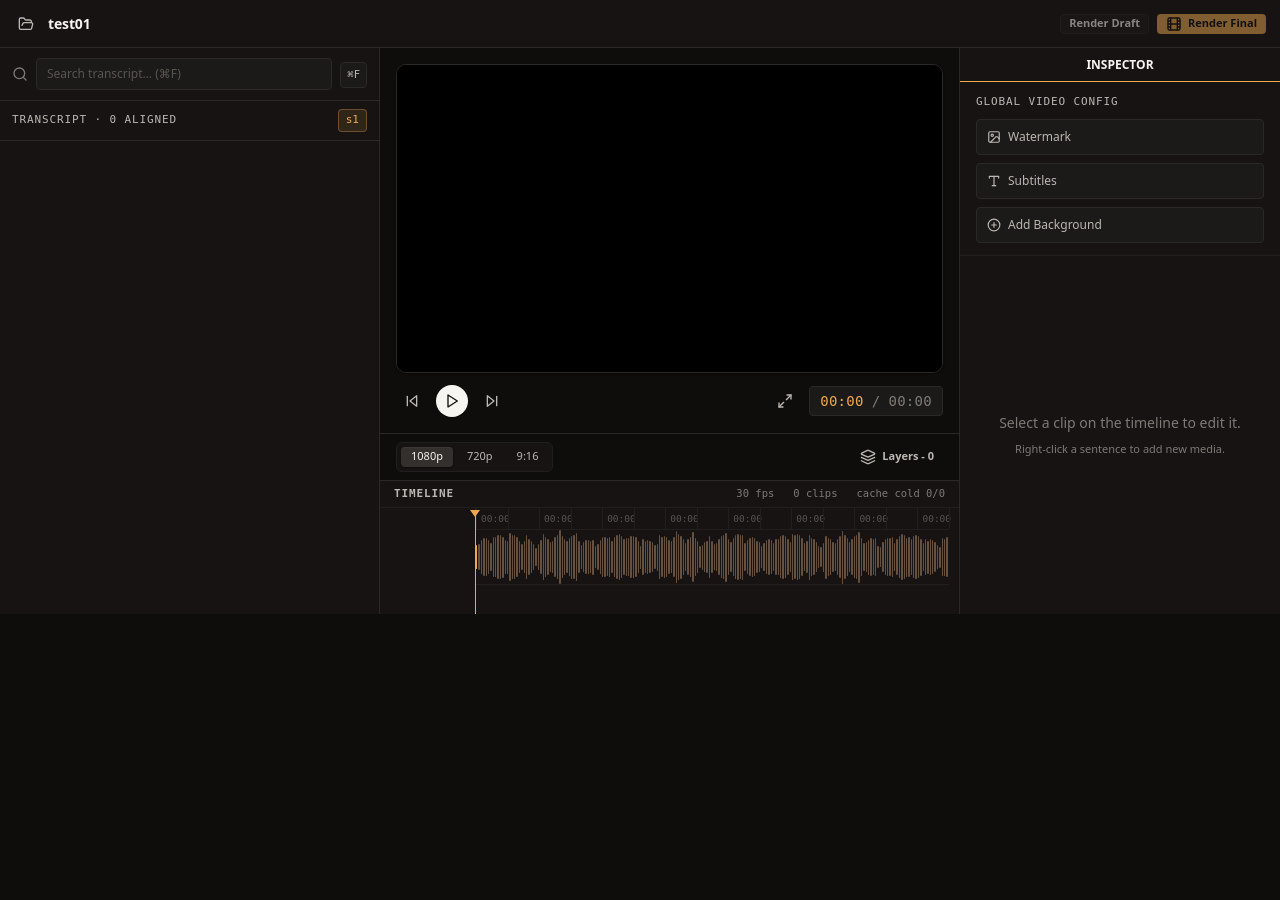
Test: deleting an unreferenced uploaded asset removes it from the modal list and autosaves
The image size is (1280, 900).
Expected: the heading "test01" is shown, [48,13,91,34]
Click the button "Watermark" at (1040, 136), box [976,118,1264,154]
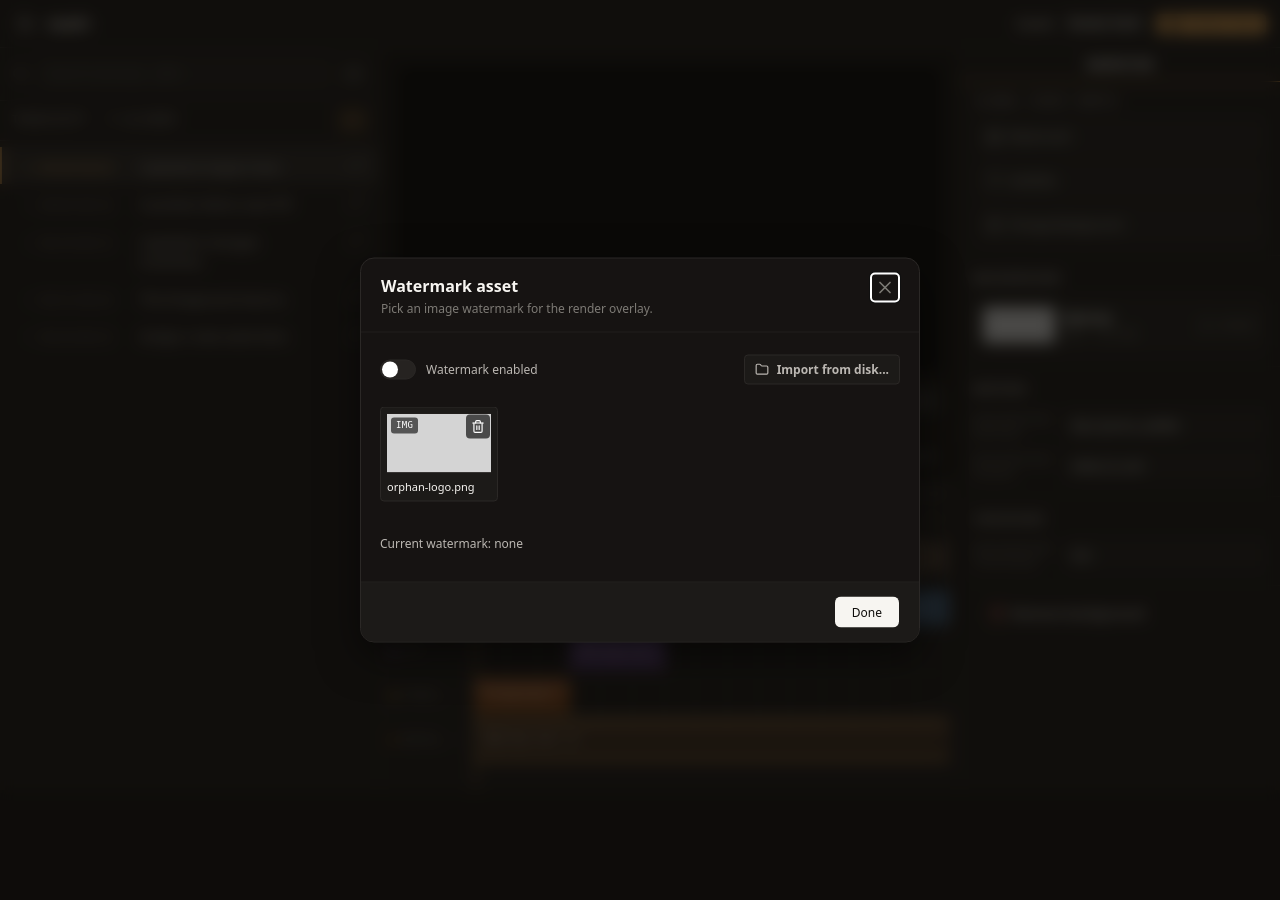
Click the button named "delete orphan-logo.png" at (478, 426), box [466,414,490,438]
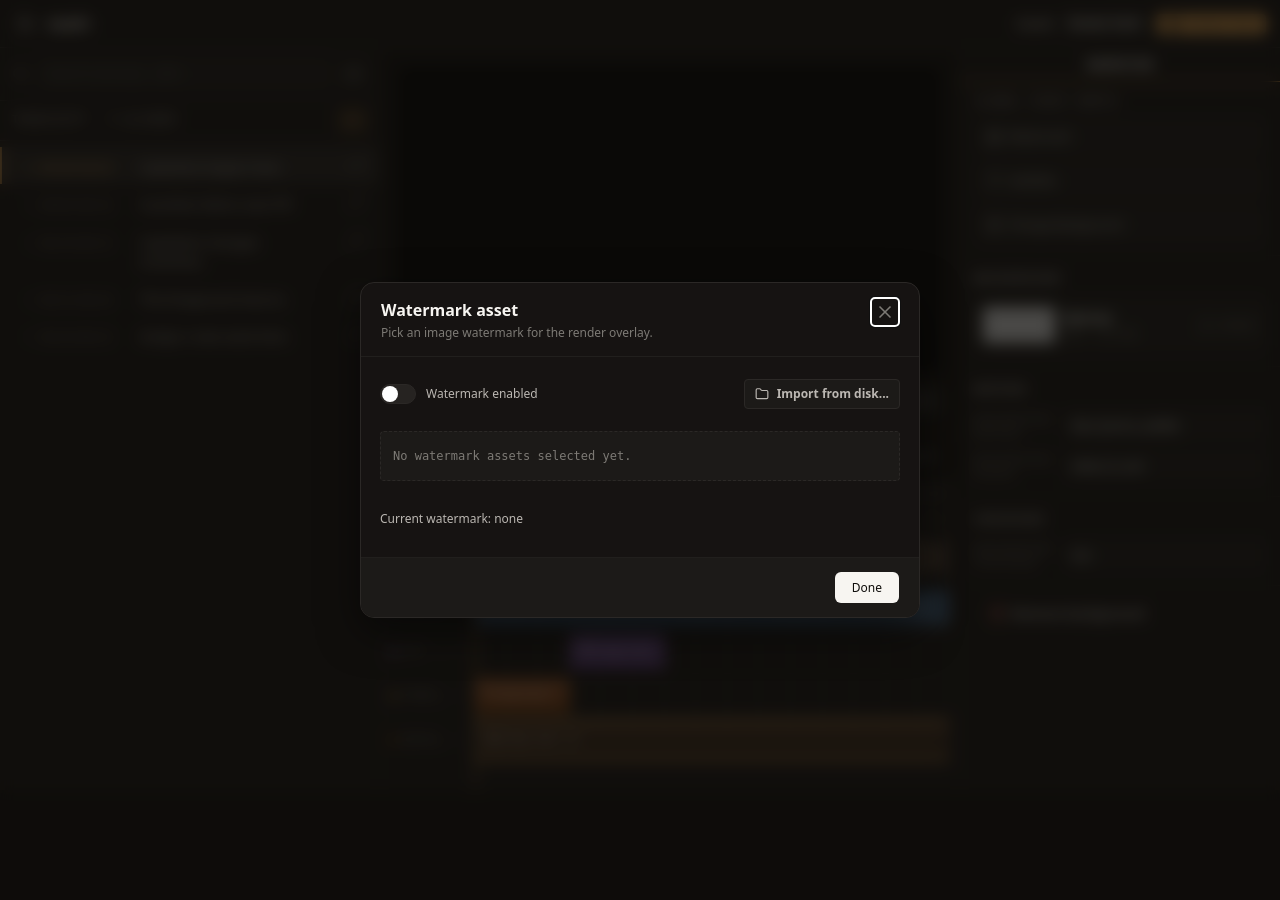
Result: the button "orphan-logo.png" is gone
